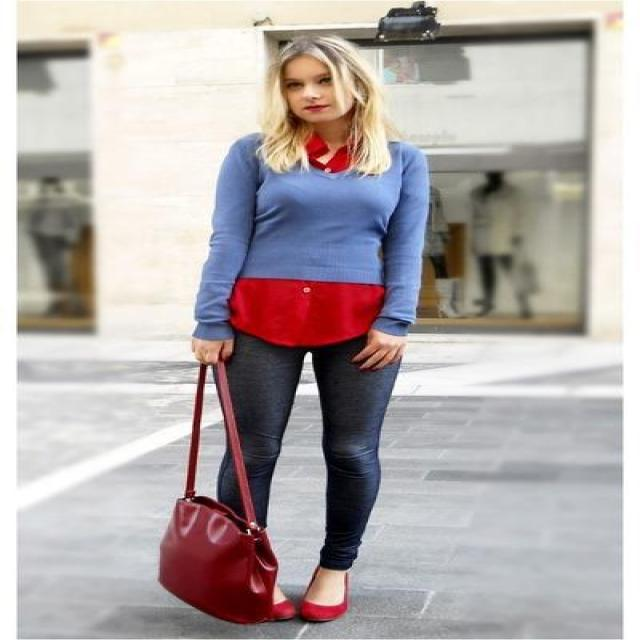bag: (158, 371, 286, 624)
jacket: (194, 133, 428, 340)
pants: (211, 320, 397, 575)
shirt: (227, 141, 386, 344)
